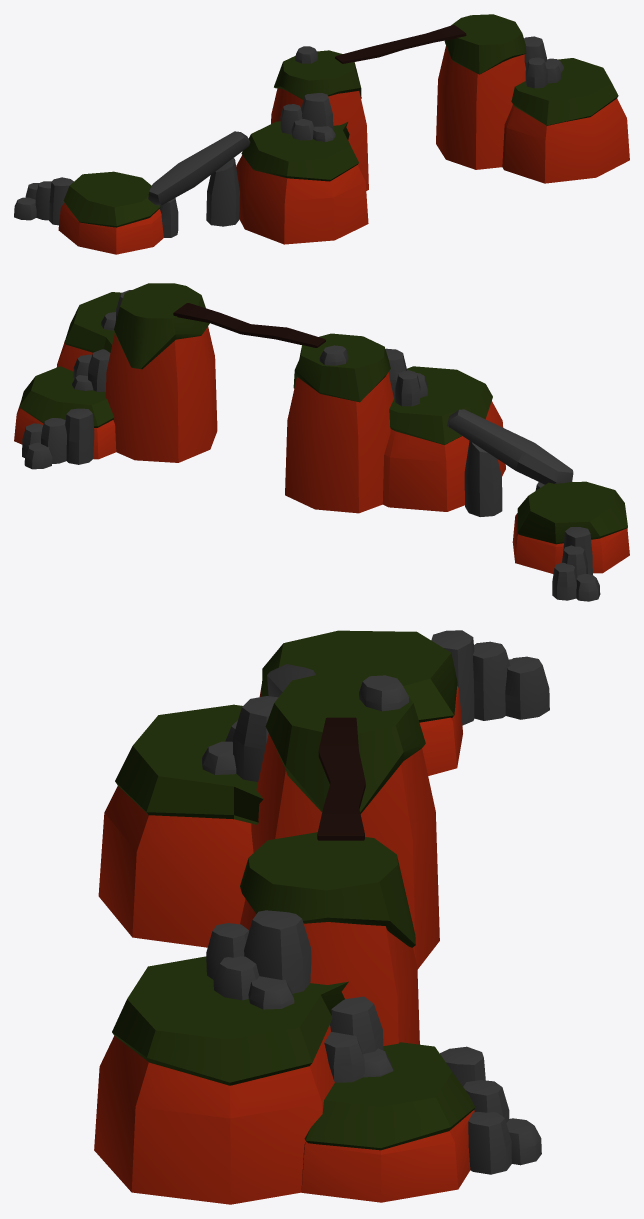
The model's file is hill_multBridges.fbx.
3 renders of one model, top to bottom at view 1: azimuth 30°, elevation 25°; view 2: azimuth 150°, elevation 25°; view 3: azimuth 270°, elevation 25°, orthographic. The views are drawn at different scales.
Visible parts, largest first — view 1: two_bridges; view 2: two_bridges; view 3: two_bridges.
Boxes of the visible parts, bbox=[...] form: two_bridges: bbox=[14, 14, 629, 254]; two_bridges: bbox=[14, 283, 629, 601]; two_bridges: bbox=[94, 630, 549, 1204].
Size of the model in its own units: 8004 by 1837 by 2964.
